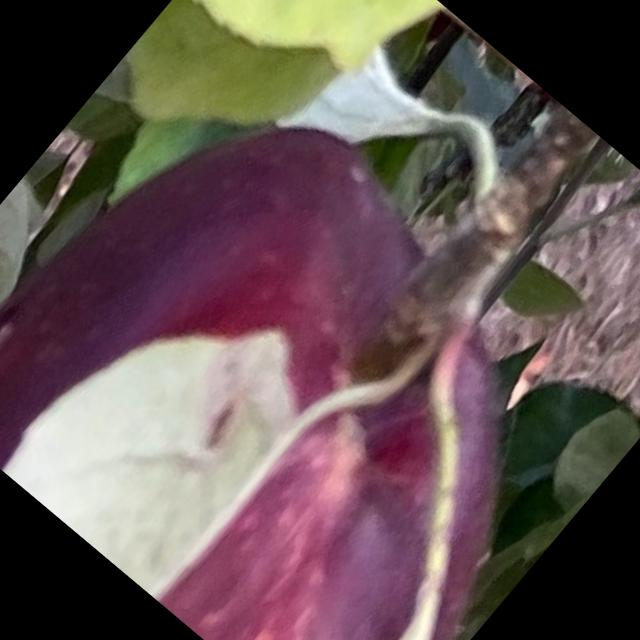Apples: (0, 33, 639, 639)
